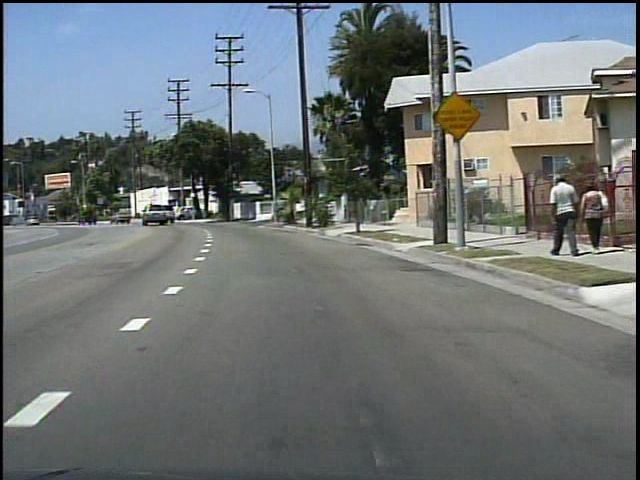person: (540, 170, 575, 258), (573, 178, 607, 254)
